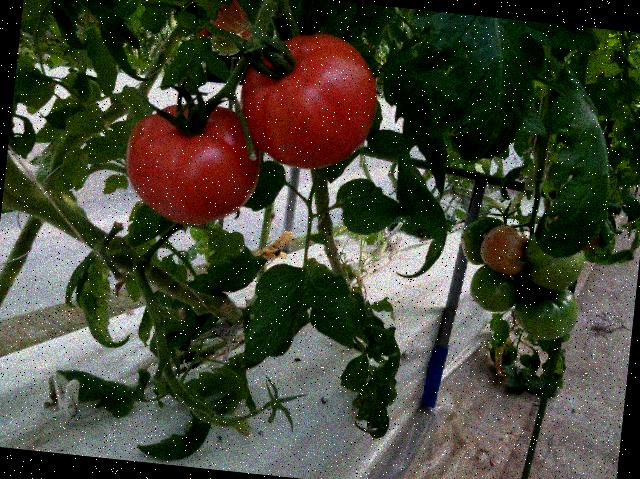b_fully_ripened: (234, 25, 384, 176), (120, 94, 265, 232)
b_green: (520, 226, 588, 293), (512, 281, 582, 343), (457, 214, 509, 268), (468, 264, 522, 315), (207, 27, 243, 57)
b_half_ripened: (477, 223, 529, 277), (209, 0, 252, 35)
